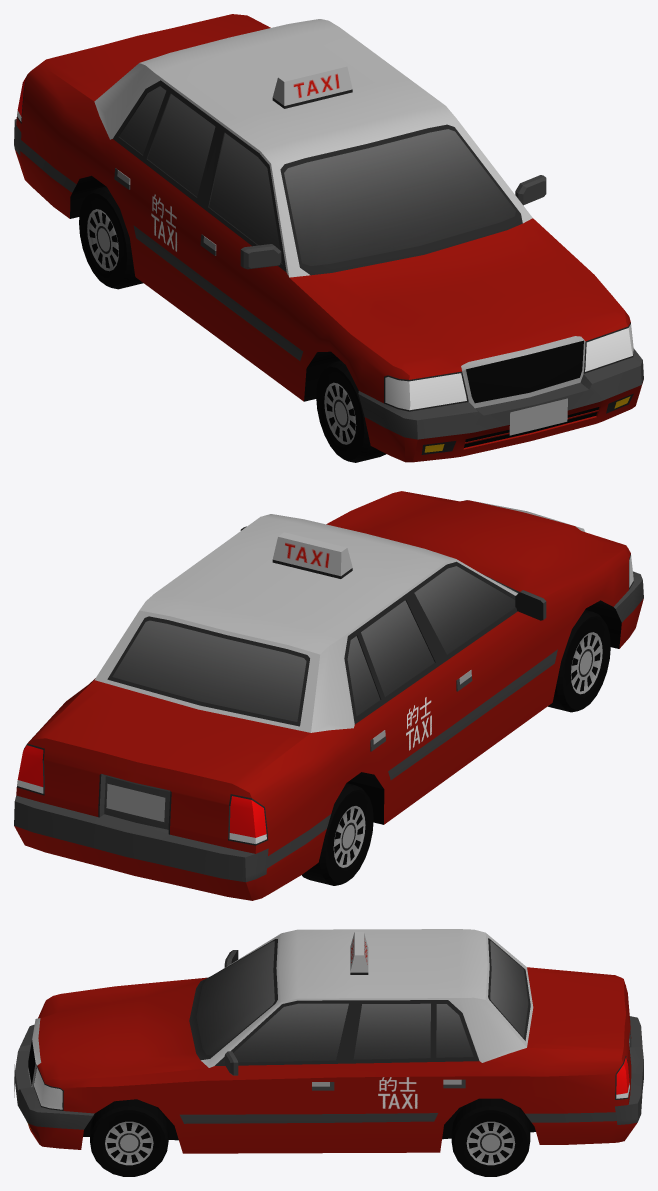
File: comfort.fbx
3 renders of one model, top to bottom at view 1: azimuth 30°, elevation 25°; view 2: azimuth 150°, elevation 25°; view 3: azimuth 270°, elevation 25°, orthographic. The views are drawn at different scales.
Visible parts, largest first — view 1: Cube, Cylinder.003, Cylinder.002; view 2: Cube, Cylinder.003, Cylinder.002; view 3: Cube, Cylinder.001, Cylinder.
Part boxes in pixels (<box>): Cube: <box>14,14,643,462</box>; Cylinder.003: <box>79,186,143,289</box>; Cylinder.002: <box>316,360,386,462</box>; Cube: <box>14,491,643,900</box>; Cylinder.003: <box>302,783,373,885</box>; Cylinder.002: <box>548,610,610,712</box>; Cube: <box>14,929,643,1153</box>; Cylinder.001: <box>451,1098,530,1176</box>; Cylinder: <box>90,1099,168,1176</box>.
Bounding box in the file's own units: 195 × 152 × 460.
